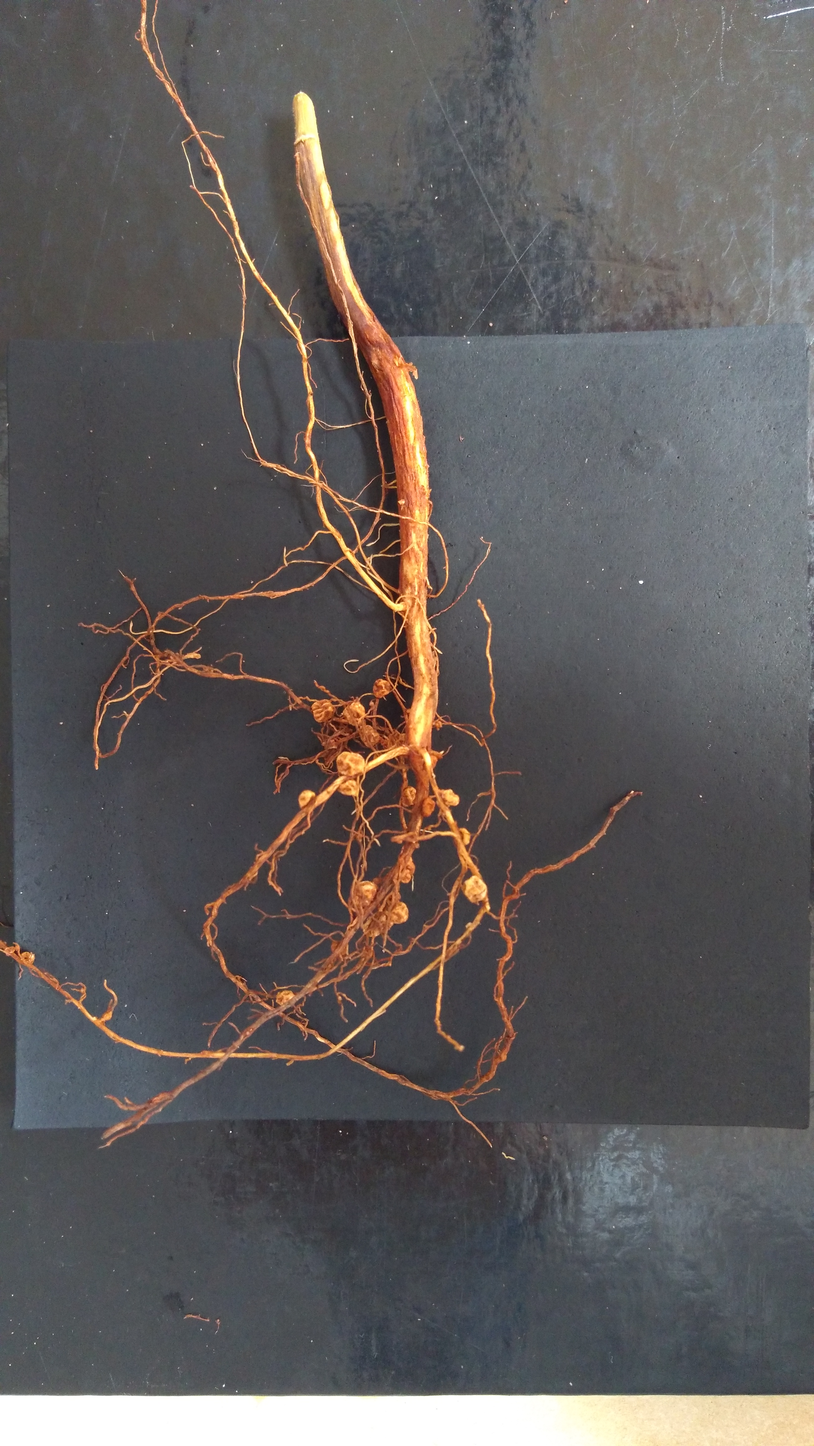nodule: (460, 874, 488, 905), (334, 750, 366, 777), (391, 854, 416, 885), (361, 910, 386, 940), (310, 697, 336, 724), (340, 701, 367, 727), (352, 878, 377, 906), (357, 724, 381, 749), (388, 900, 410, 925), (438, 786, 462, 808), (336, 779, 361, 798), (371, 677, 391, 700), (400, 784, 417, 809), (420, 794, 436, 819), (297, 788, 316, 809), (275, 988, 296, 1006), (331, 939, 349, 957), (457, 826, 472, 846), (19, 949, 37, 964), (3, 945, 16, 956)
